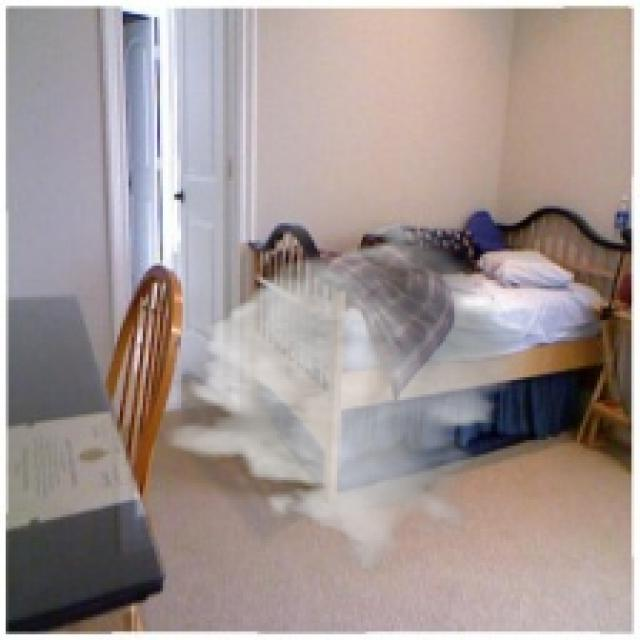smoke: (160, 217, 537, 572)
